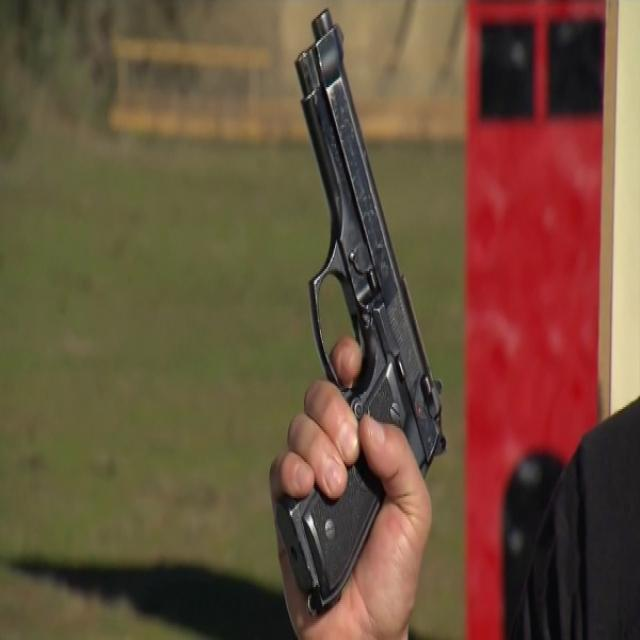weapons: (258, 0, 450, 620)
